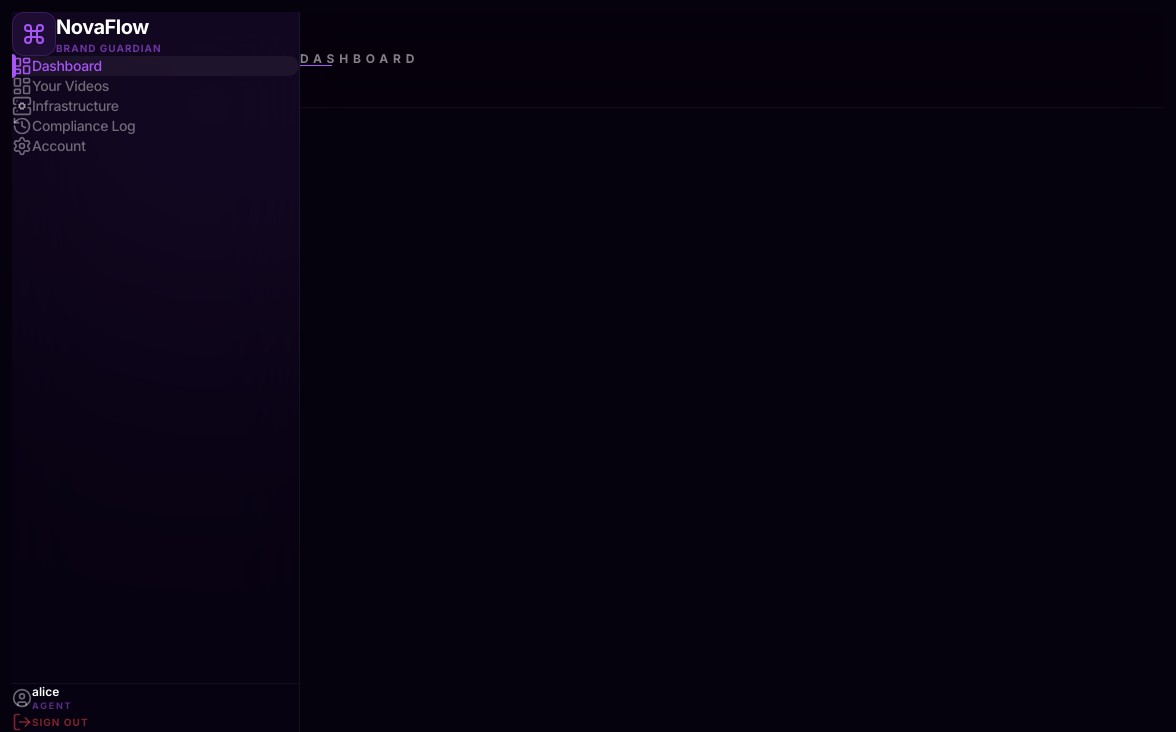
Test: the fabricated account screen is gone › shows the signed-in identity, not an invented persona
Click the button "Account".
click(59, 146)  # box [12,136,299,156]
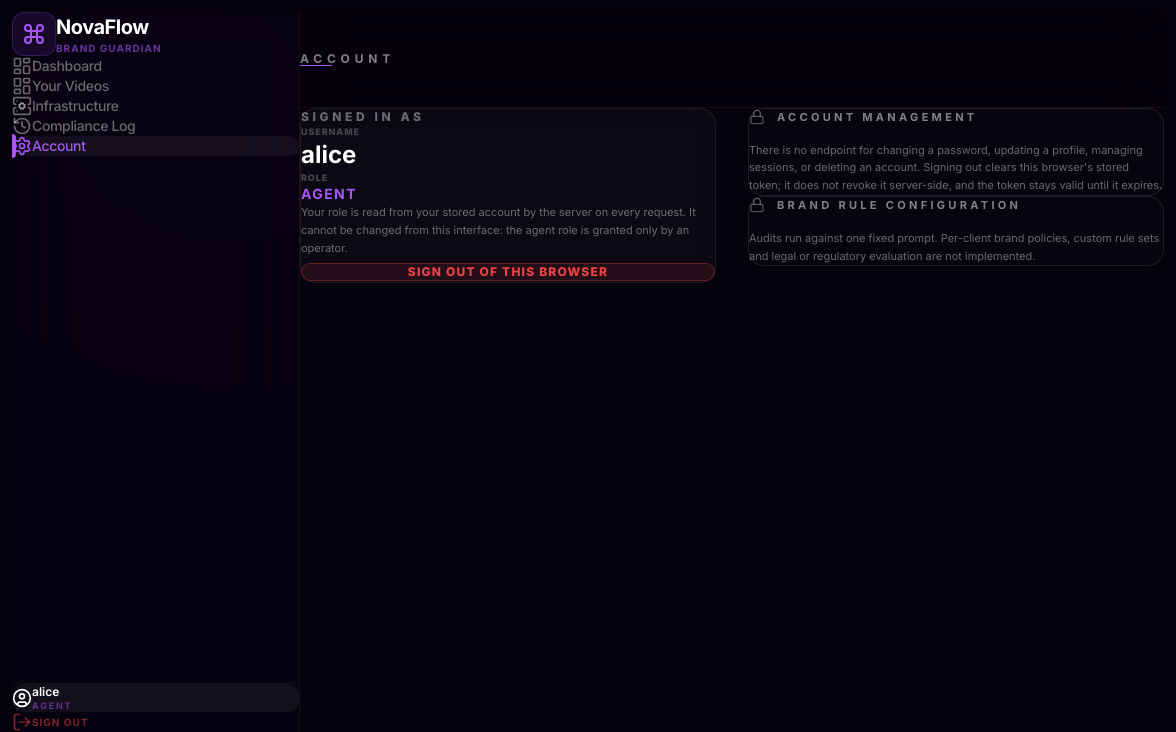
Expected: the 2nd text "alice" is shown, [32,684,59,698]
Expected: the heading "Signed in as" is shown, [301,109,424,124]
